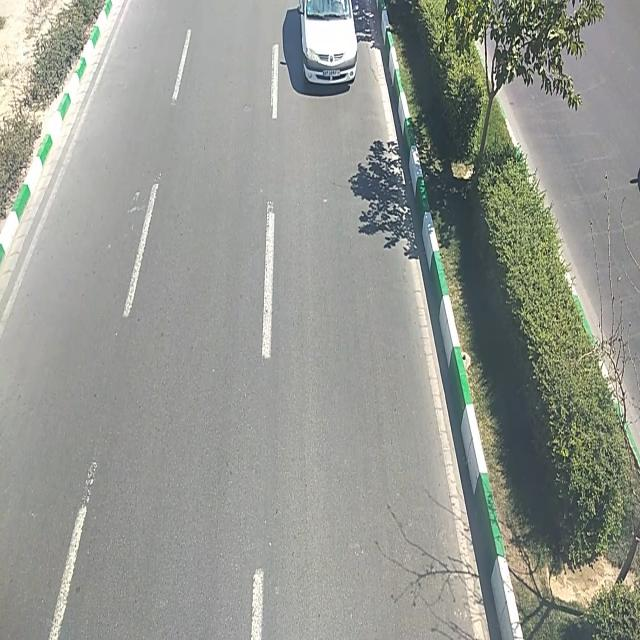car: (304, 1, 360, 90)
